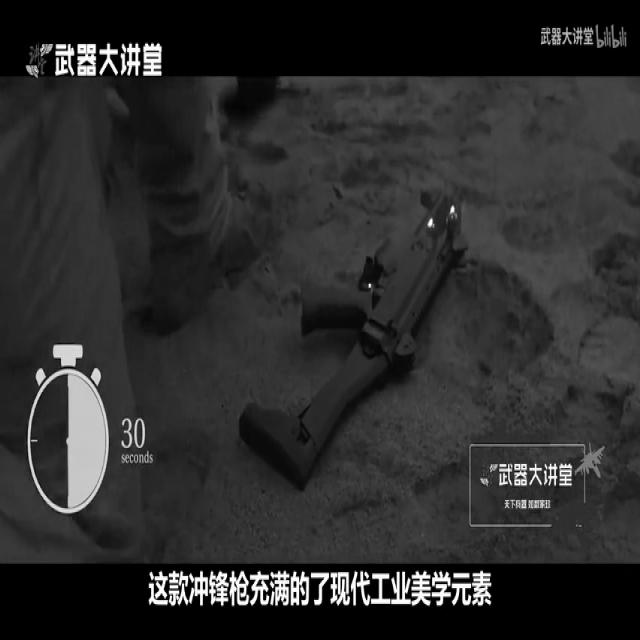Sub-machine-gun: (234, 174, 471, 489)
